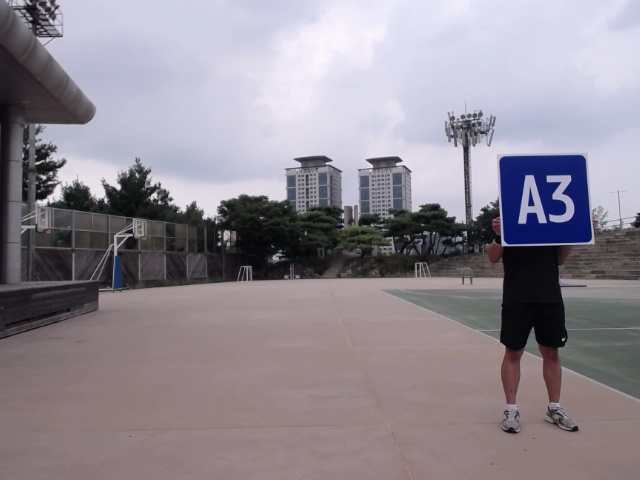delivery_a3: (499, 154, 594, 246)
